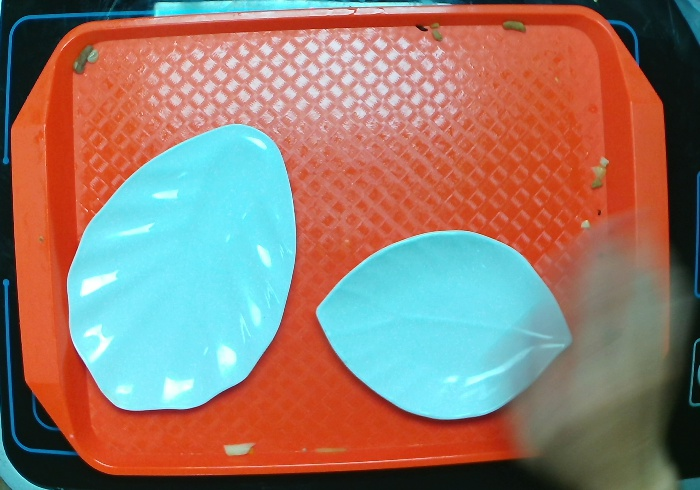RJxy-Bai_Ye_Pan: (64, 121, 298, 412)
RJxy-Da_Du_Pan: (314, 227, 574, 423)
